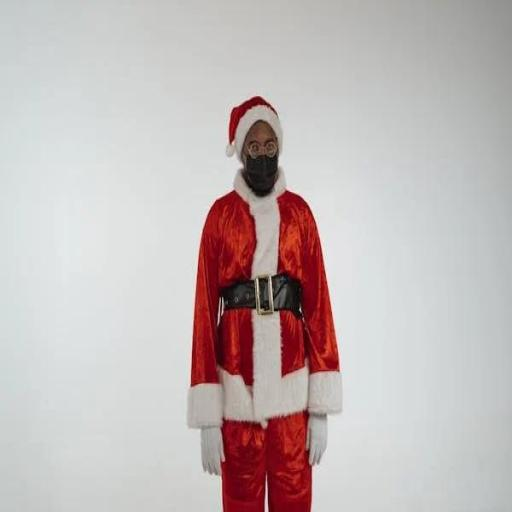mask: (221, 102, 307, 212)
